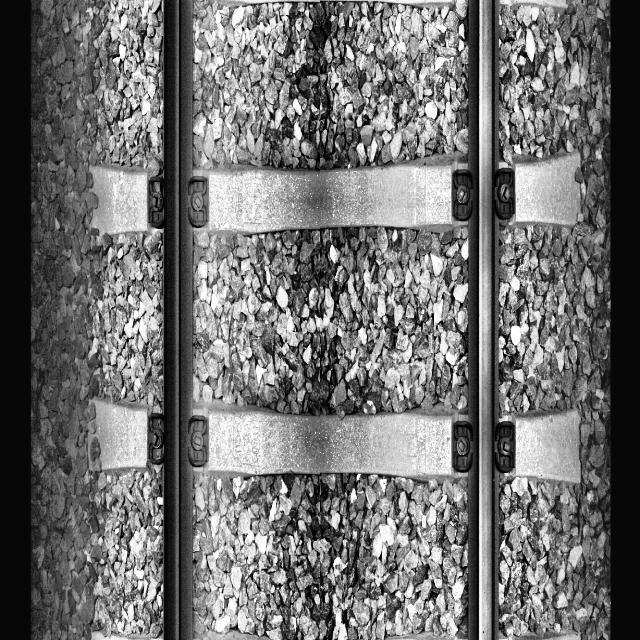Clips: (183, 171, 217, 232), (492, 417, 519, 475), (491, 166, 519, 220), (449, 410, 473, 473), (186, 407, 212, 465), (146, 176, 172, 228), (451, 163, 473, 222), (148, 410, 168, 467)
Sleepers: (83, 391, 584, 488), (83, 158, 589, 237)
